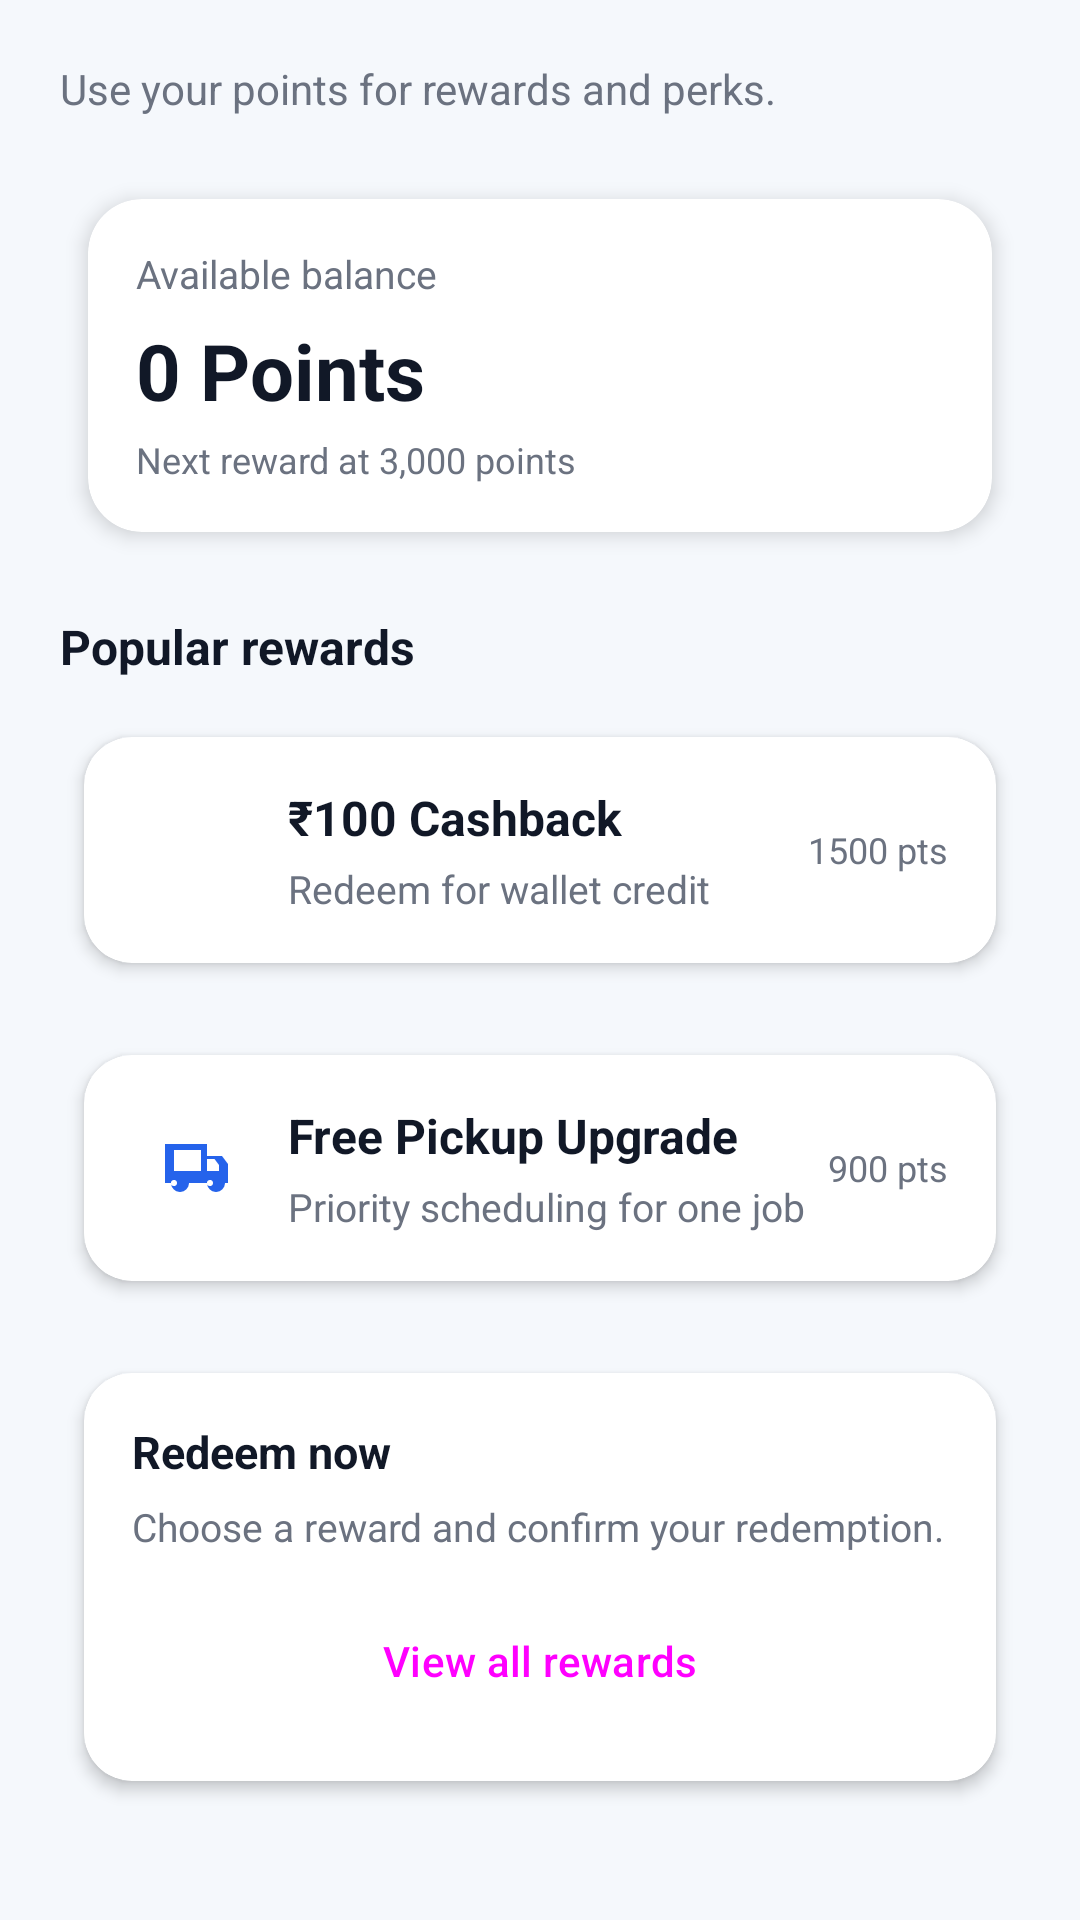

Icons on this 1080w x 1920h Android screen, each with its box as (x1, y1, x2, y2):
local shipping: (165, 1144, 228, 1192)
